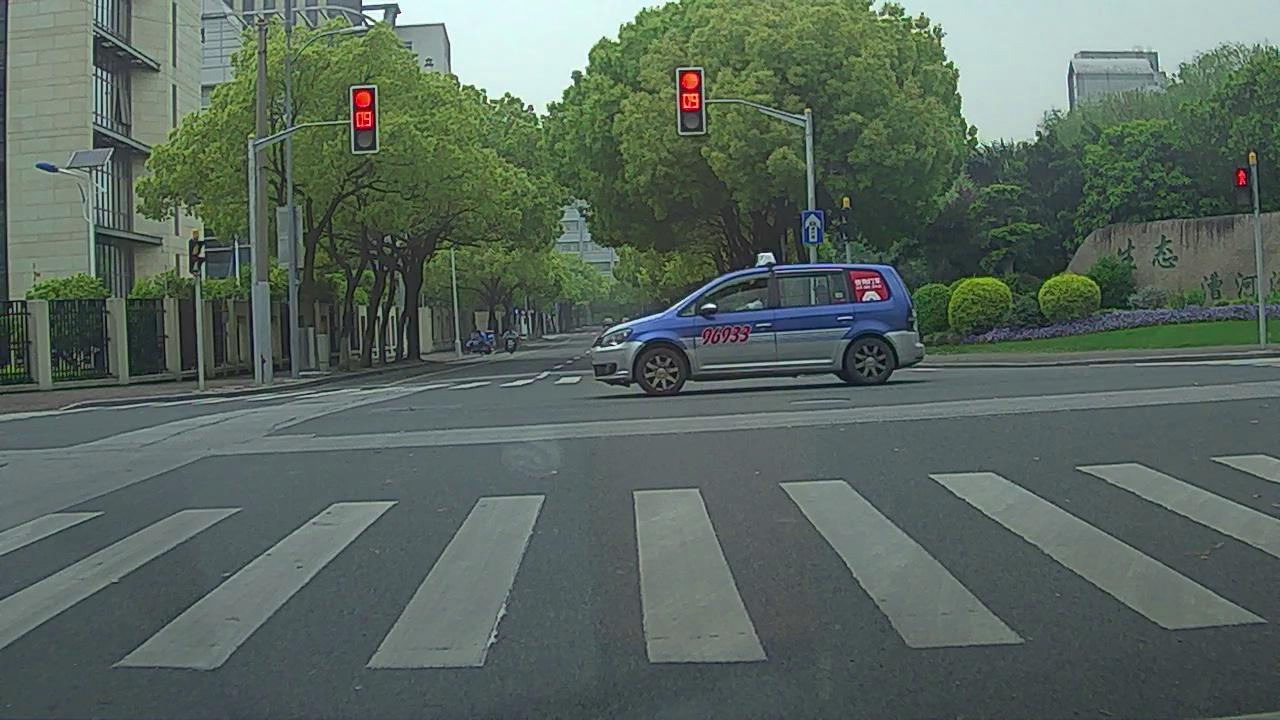traffic_light: (352, 89, 377, 151), (680, 68, 701, 132)
